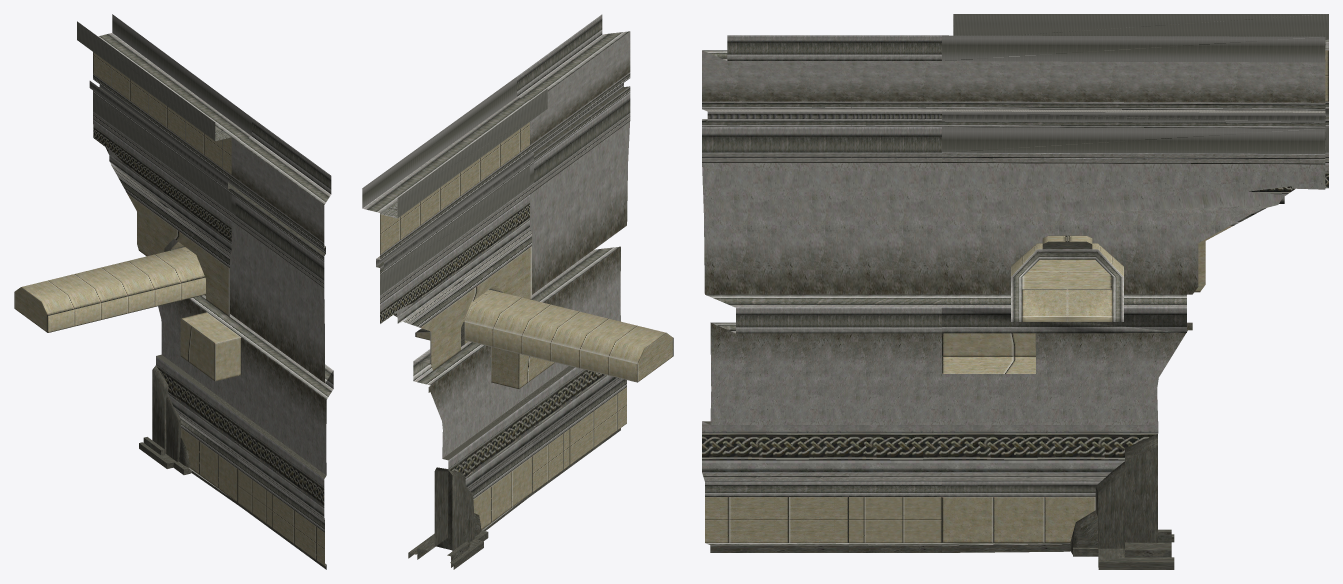
The model's file is DWARF_PALACE_ARKENSTONE_ROOM_DWALLA.fbx.
The picture shows the model from 3 angles, left to right: view 1: azimuth 30°, elevation 25°; view 2: azimuth 150°, elevation 25°; view 3: azimuth 270°, elevation 25°; orthographic projection. The views are drawn at different scales.
Visible parts, largest first — view 1: DWARF_PALACE_ARKENSTONE_ROOM_DWALLA; view 2: DWARF_PALACE_ARKENSTONE_ROOM_DWALLA; view 3: DWARF_PALACE_ARKENSTONE_ROOM_DWALLA.
Part boxes in pixels (bbox=[...]): DWARF_PALACE_ARKENSTONE_ROOM_DWALLA: bbox=[14, 14, 333, 569]; DWARF_PALACE_ARKENSTONE_ROOM_DWALLA: bbox=[362, 14, 673, 569]; DWARF_PALACE_ARKENSTONE_ROOM_DWALLA: bbox=[702, 14, 1328, 569].
Size of the model in its own units: 111689 by 205000 by 222002.
9 materials, 9 textured.
